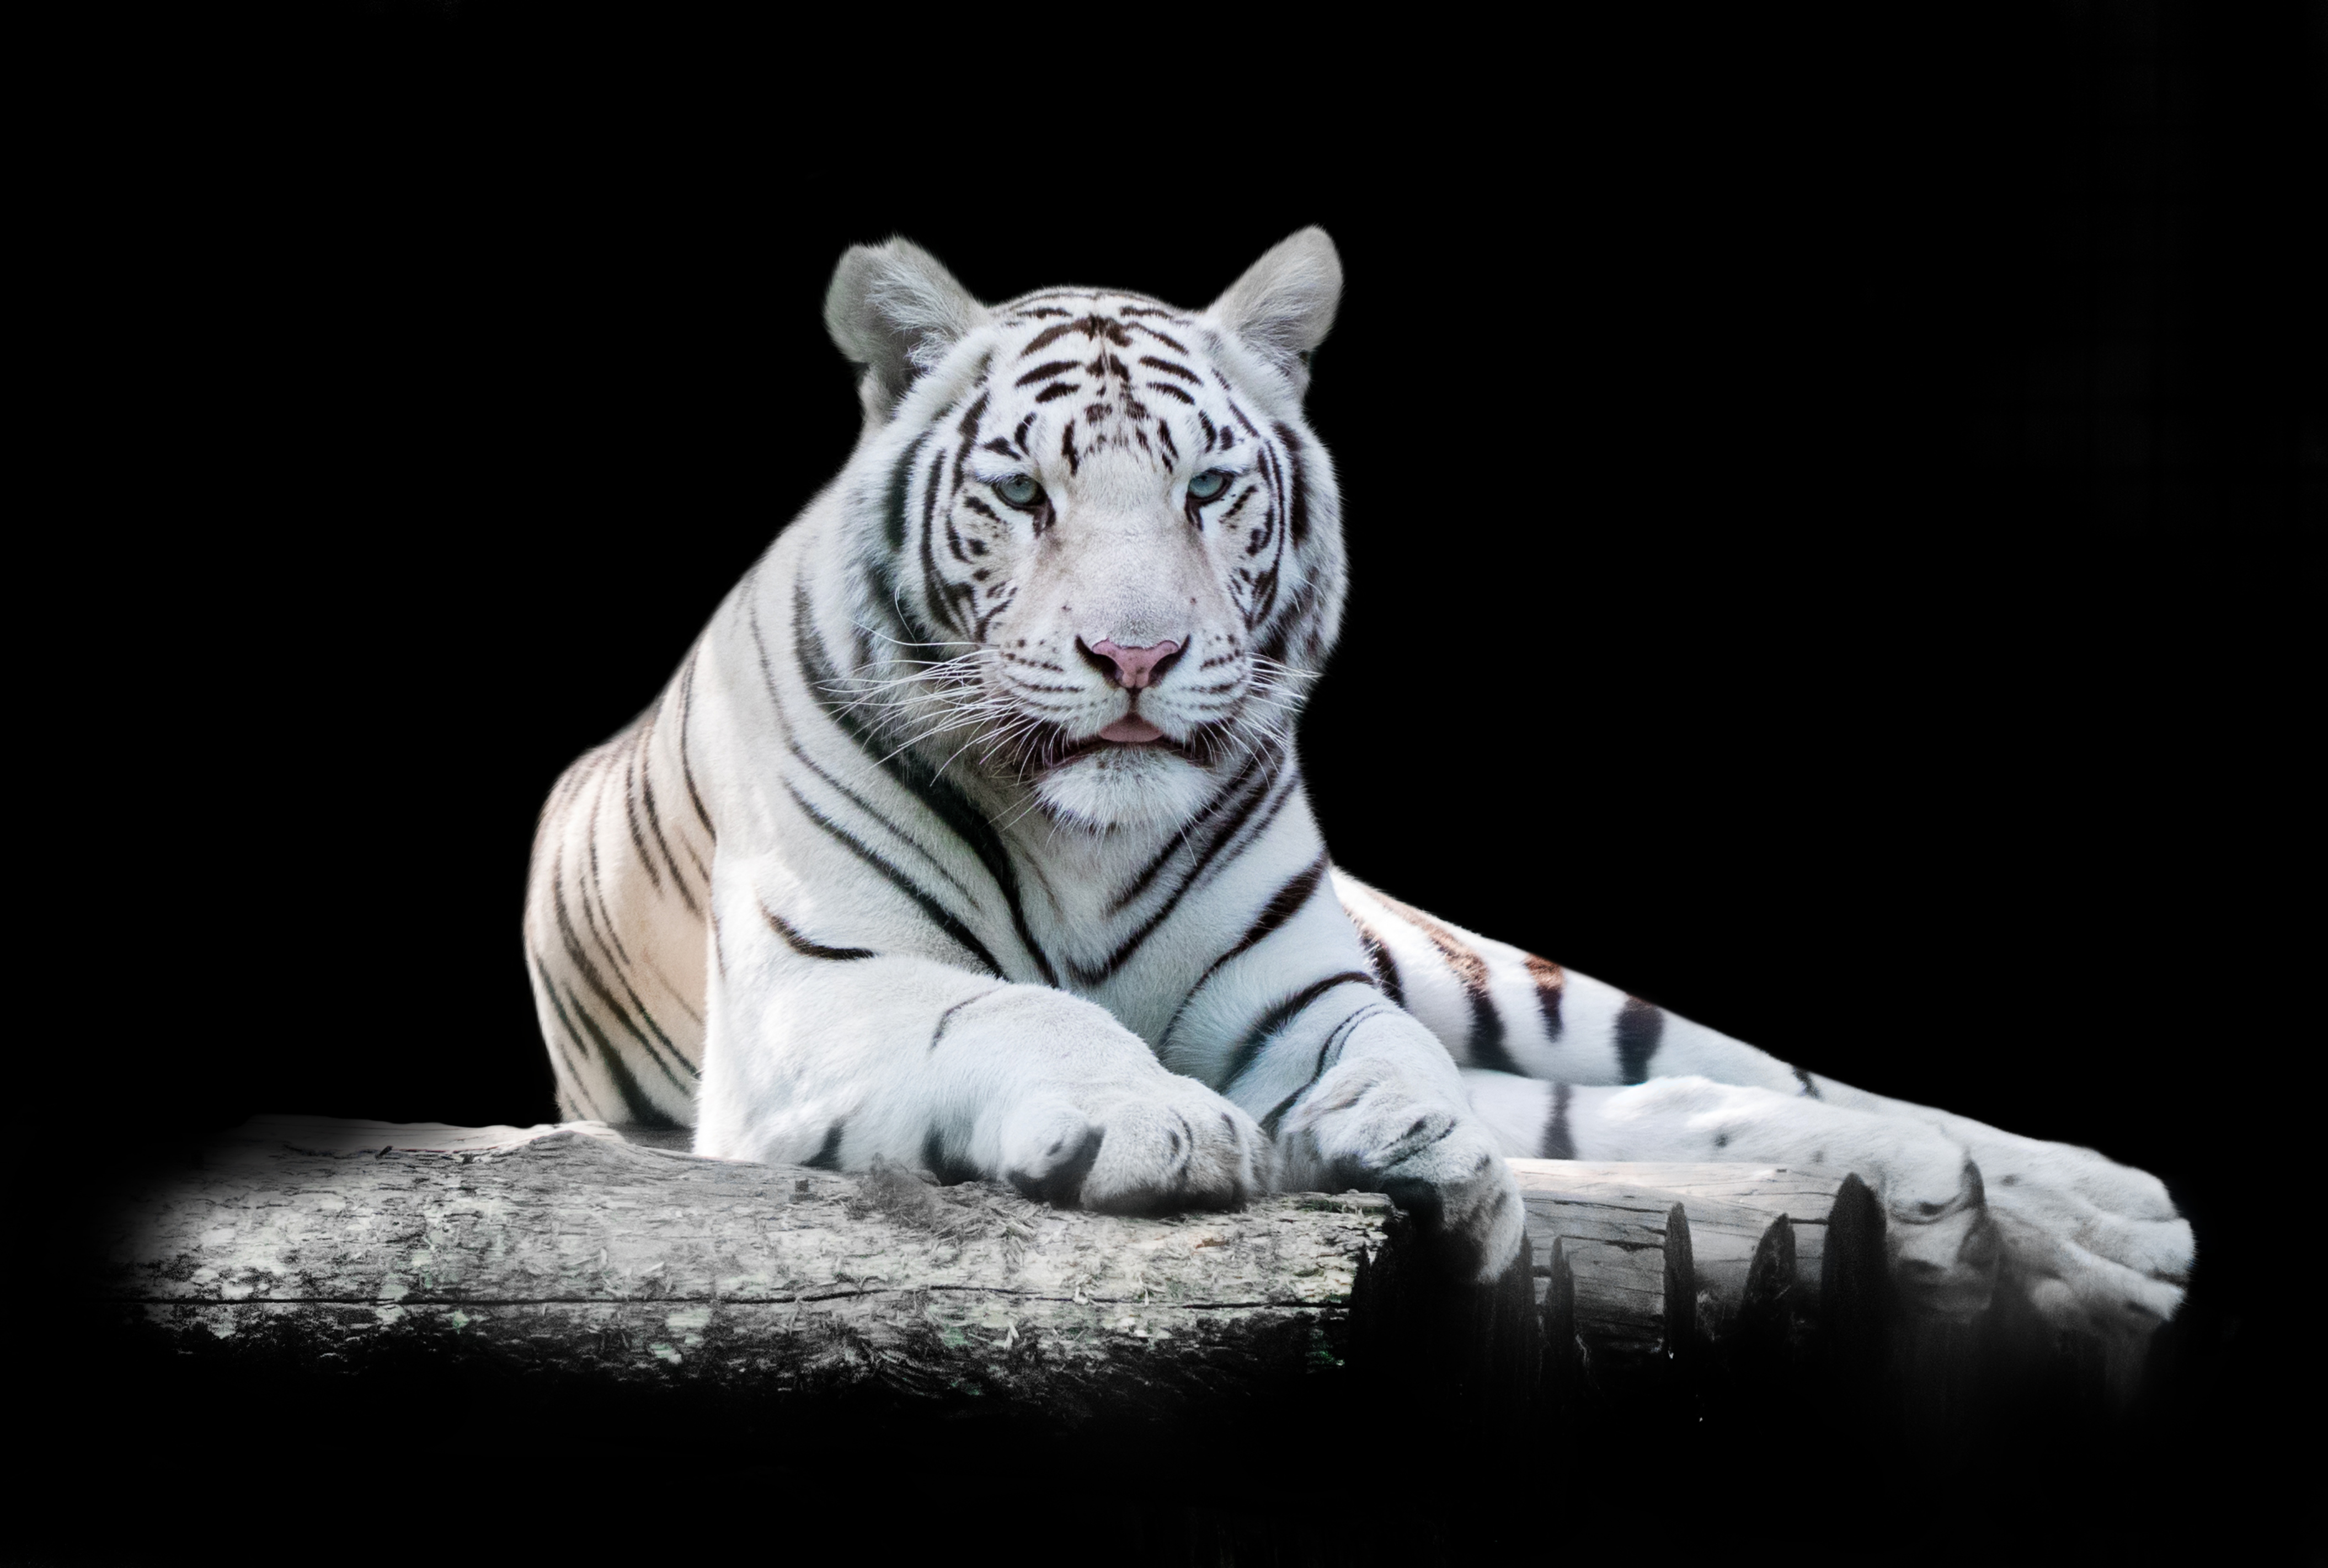tiger: (511, 205, 2174, 1302)
